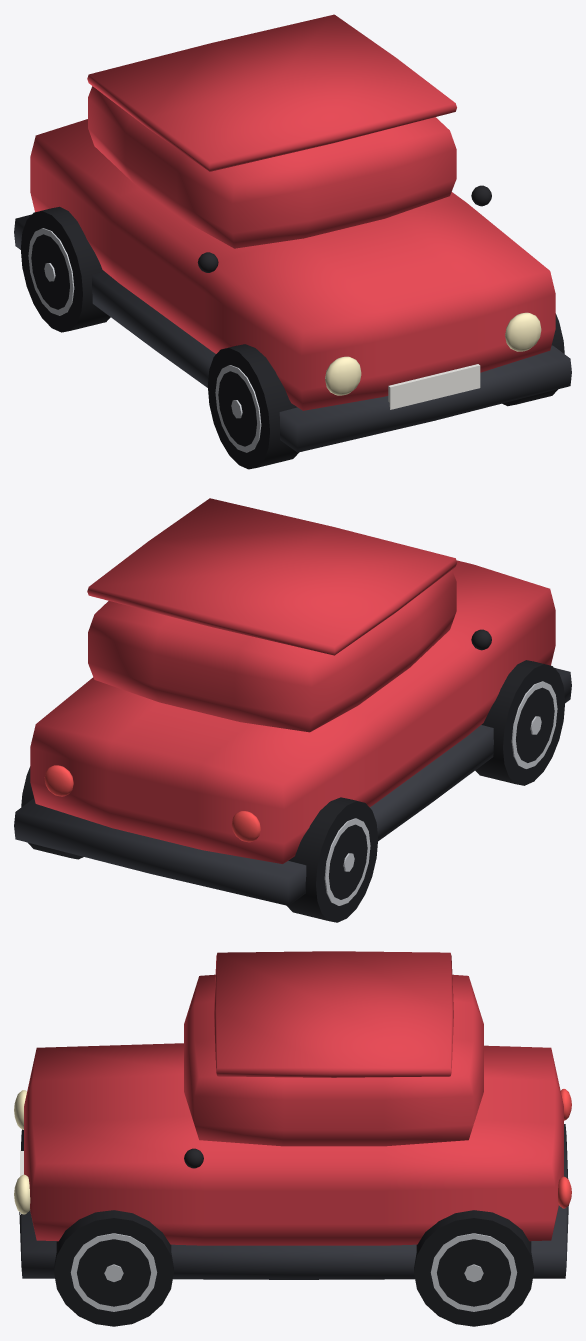
The model's file is car_parked.glb.
3 renders of one model, top to bottom at view 1: azimuth 30°, elevation 25°; view 2: azimuth 150°, elevation 25°; view 3: azimuth 270°, elevation 25°, orthographic. The views are drawn at different scales.
Visible parts, largest first — view 1: root; view 2: root; view 3: root.
Part boxes in pixels (x1,y1,x2,y2): root: (14, 14, 571, 469); root: (14, 498, 571, 922); root: (14, 951, 571, 1326).
Bounding box in the file's own units: 1.67 × 1.38 × 2.79.
